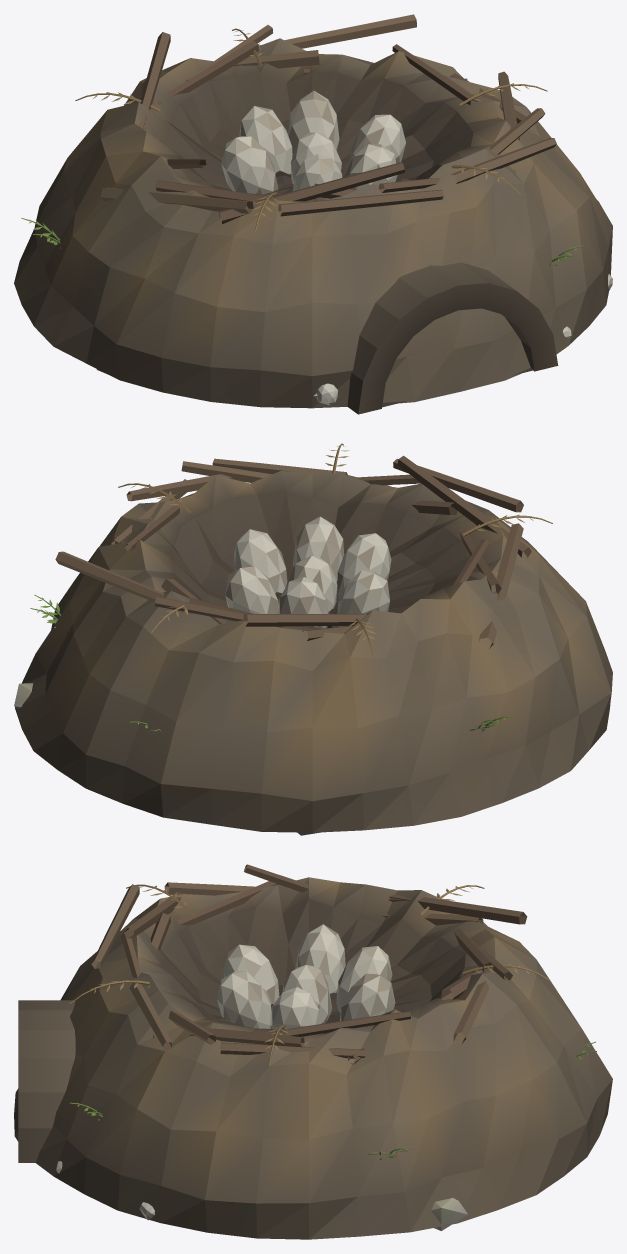
The model's file is nest_a.glb.
3 renders of one model, top to bottom at view 1: azimuth 30°, elevation 25°; view 2: azimuth 150°, elevation 25°; view 3: azimuth 270°, elevation 25°, orthographic.
Visible parts, largest first — view 1: nest_a; view 2: nest_a; view 3: nest_a.
Boxes of the visible parts, <box> form: nest_a: <box>14,14,612,414</box>; nest_a: <box>14,443,612,835</box>; nest_a: <box>14,864,612,1239</box>.
Bounding box in the file's own units: 1.97 × 0.7239 × 1.98.
